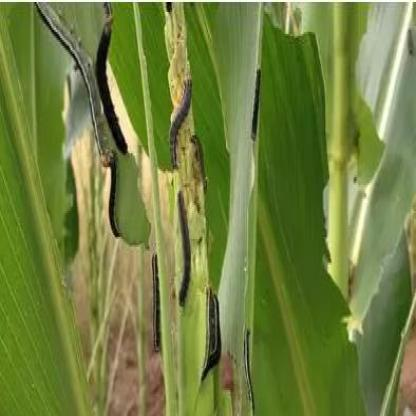armyworm: (34, 2, 112, 170), (93, 0, 128, 155), (168, 75, 196, 170), (201, 273, 224, 386), (148, 251, 172, 357), (176, 190, 196, 311), (104, 150, 125, 241), (188, 126, 210, 197), (247, 63, 264, 149), (244, 323, 256, 411)
